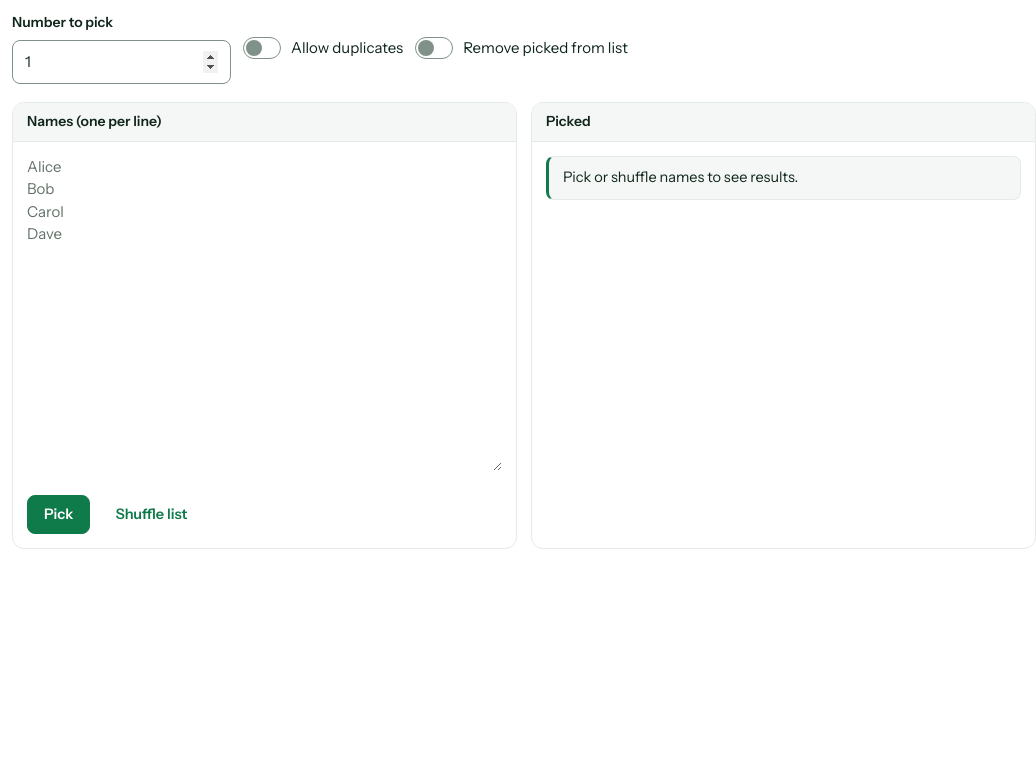
Test: RandomNamePicker › empty list → shows error
This screenshot has width=1036, height=780.
Click the button "Pick" at (59, 514), box x1=27 y1=495 x2=90 y2=534
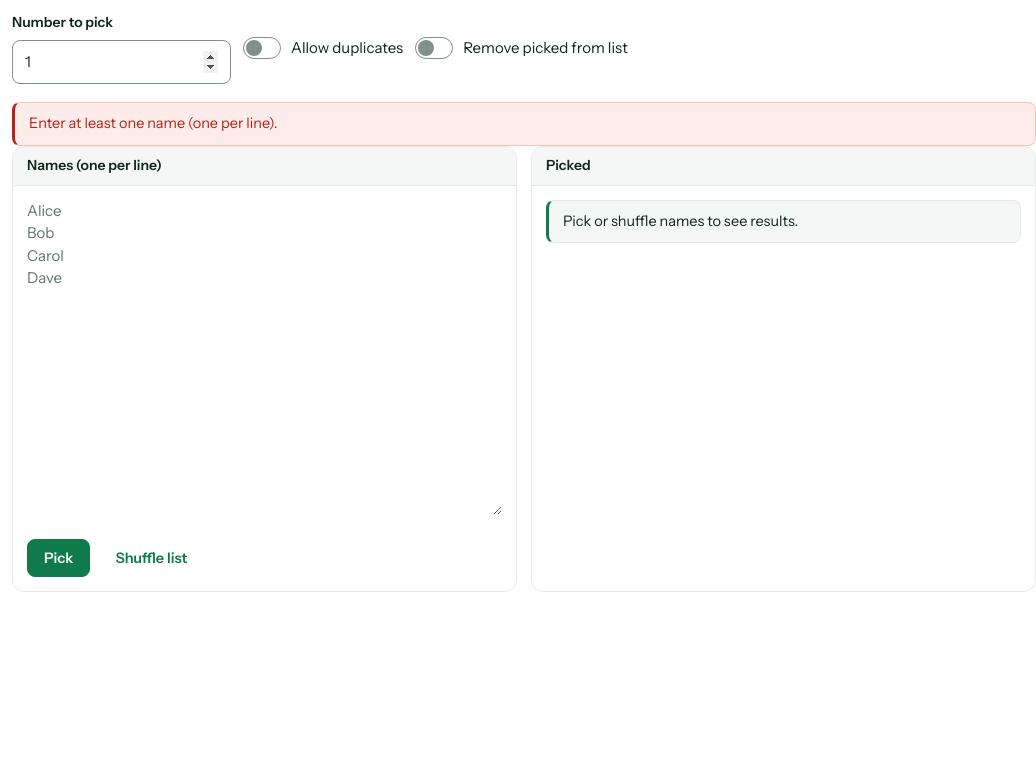
Expected: the text "Enter at least one name (one per line)." is shown, x1=12 y1=102 x2=1035 y2=146
